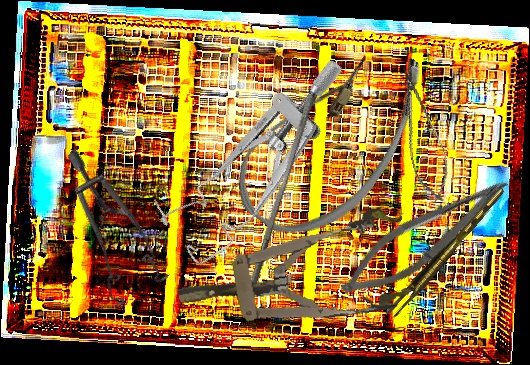Cannula: (219, 11, 446, 263)
Micro Scissor: (331, 156, 518, 315), (388, 61, 457, 207)
Pusher: (243, 91, 317, 306)
Speculum: (136, 54, 391, 273), (170, 204, 417, 345), (12, 147, 197, 323)
Tissue Forceps: (381, 185, 512, 321)
